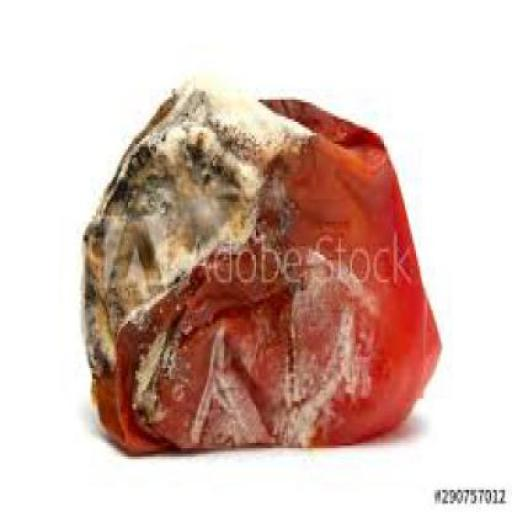biodegradable: (79, 80, 439, 454)
